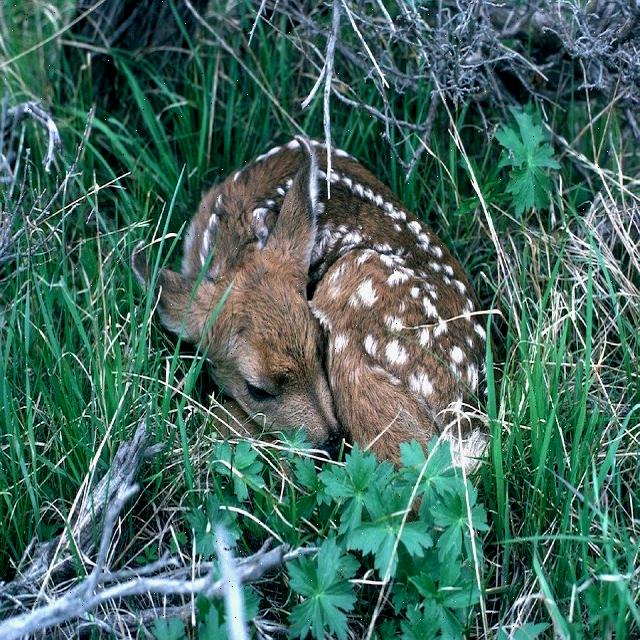deer: (154, 125, 376, 450)
